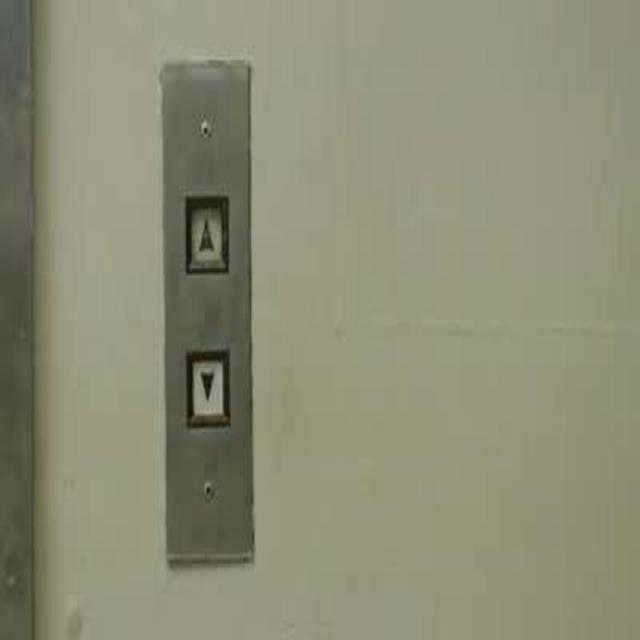up: (182, 188, 231, 277)
updown: (183, 341, 231, 431)
